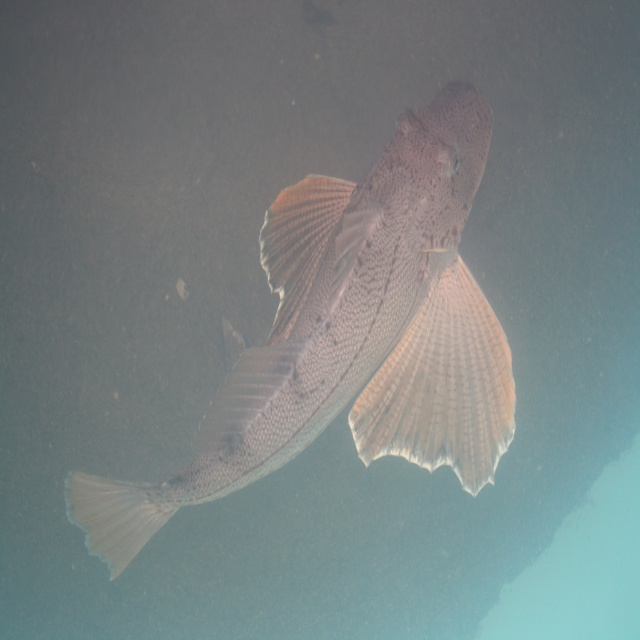Fish: (65, 81, 516, 586)
